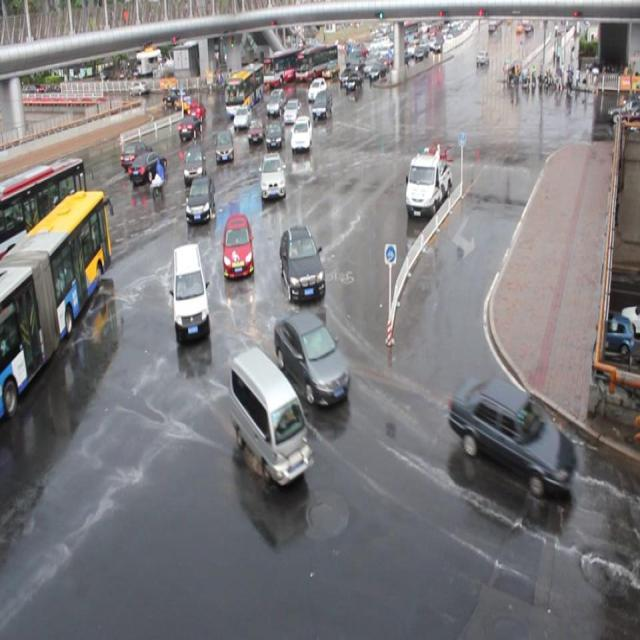bus: (404, 148, 452, 215)
car: (450, 373, 578, 496), (274, 307, 351, 405), (278, 224, 326, 301), (222, 214, 254, 277), (184, 174, 214, 222), (128, 150, 167, 182), (259, 152, 286, 198), (120, 139, 154, 167), (184, 145, 206, 182), (290, 115, 312, 150), (177, 114, 202, 140), (215, 128, 234, 162), (312, 91, 332, 119), (266, 88, 286, 115), (266, 120, 285, 148), (248, 118, 266, 142), (283, 98, 301, 122), (307, 78, 327, 99), (233, 105, 252, 127), (187, 101, 206, 122), (174, 92, 193, 112), (162, 88, 183, 106)
truck: (229, 346, 314, 484), (172, 243, 212, 341)
van: (1, 190, 112, 422), (1, 156, 88, 275), (224, 62, 264, 116)
